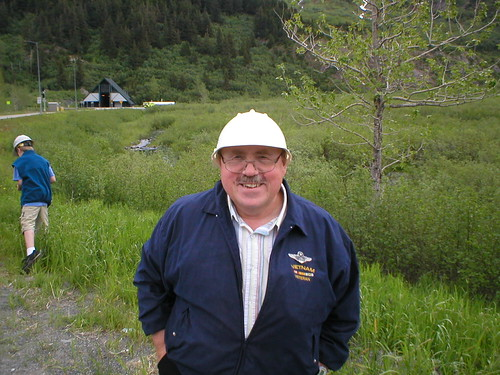person hardhat: (137, 109, 363, 375), (6, 134, 57, 274)
